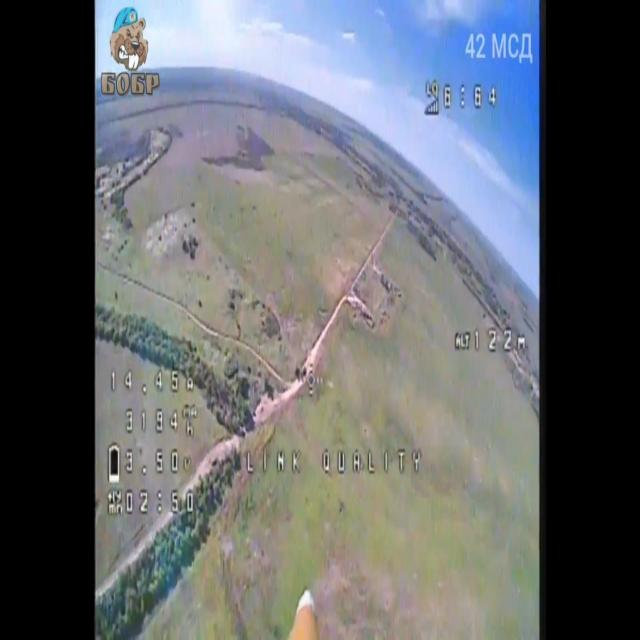cars: (294, 360, 308, 381)
